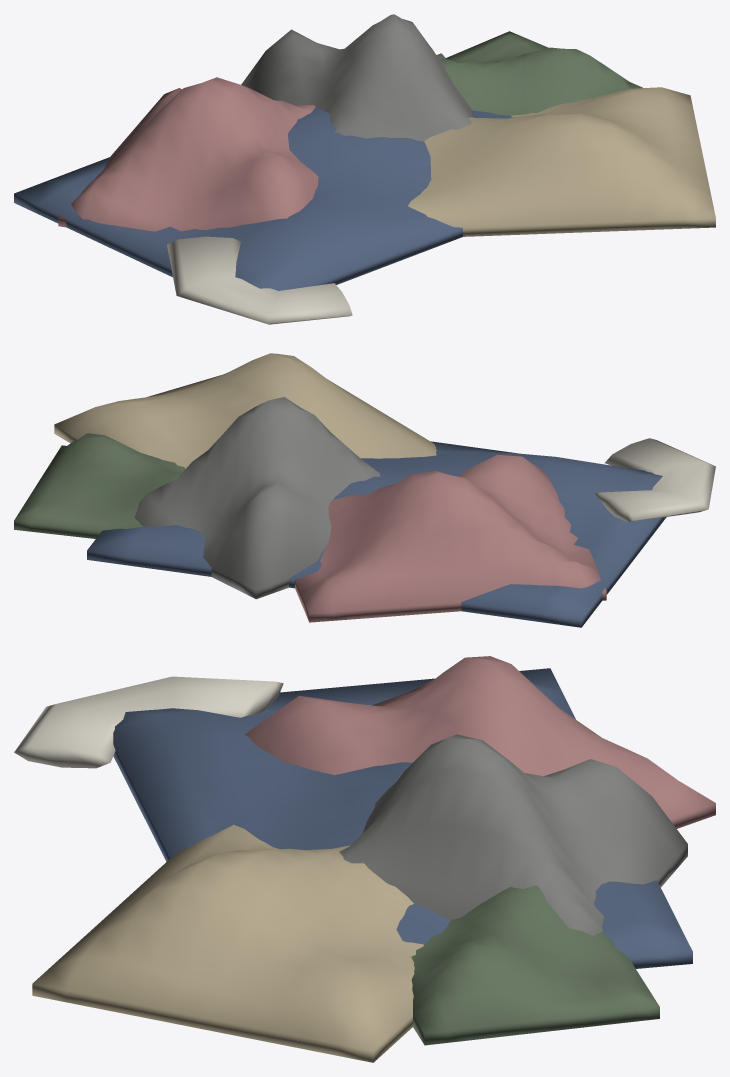
The model's file is RoupaNoChao.fbx.
The picture shows the model from 3 angles, top to bottom: view 1: azimuth 30°, elevation 25°; view 2: azimuth 150°, elevation 25°; view 3: azimuth 270°, elevation 25°; orthographic projection. The views are drawn at different scales.
Visible parts, largest first — view 1: RoupaNoChao; view 2: RoupaNoChao; view 3: RoupaNoChao.
Boxes of the visible parts, x1,y1,x2,y2 form: RoupaNoChao: (14, 14, 715, 324); RoupaNoChao: (14, 353, 715, 627); RoupaNoChao: (14, 656, 715, 1062).
Size of the model in its own units: 0.8181 by 0.1609 by 0.6343.
